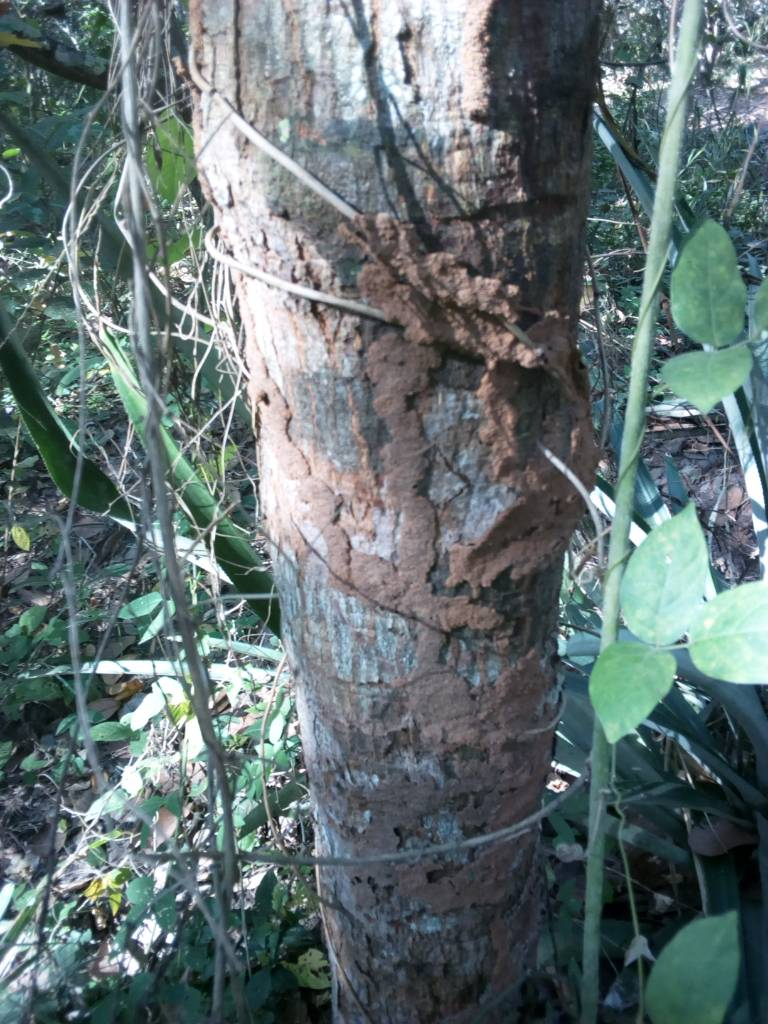Termites: (318, 250, 547, 967)
